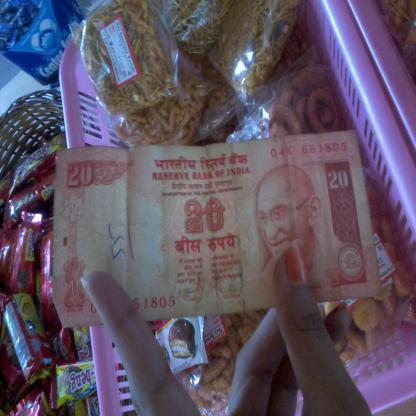Old20Front: (52, 130, 381, 327)
